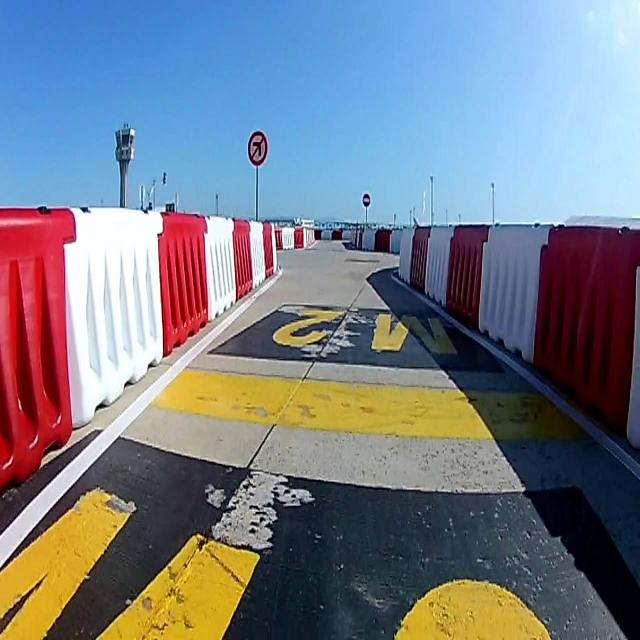girisyok: (362, 189, 372, 210)
soladonulmez: (245, 132, 269, 166)
